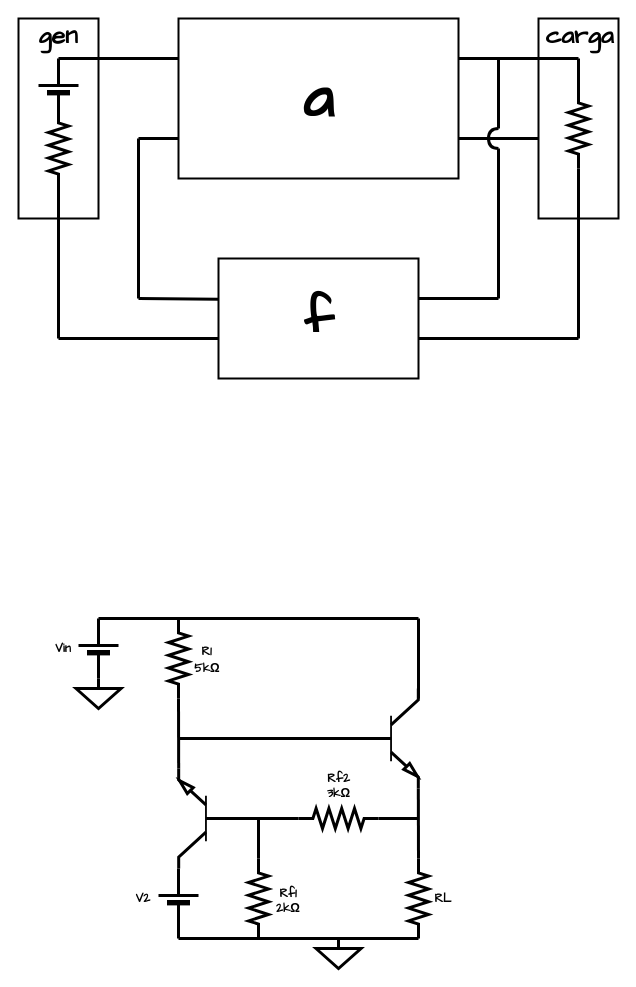
Image size: 636x987. Some labels were removed from this diagram. Each missing label, with the centre of its shape:
"Q1" belongs at (386,738).
"Q2" belongs at (210,818).
